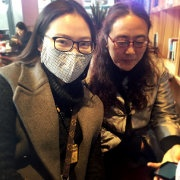Mask: (47, 31, 98, 82)
